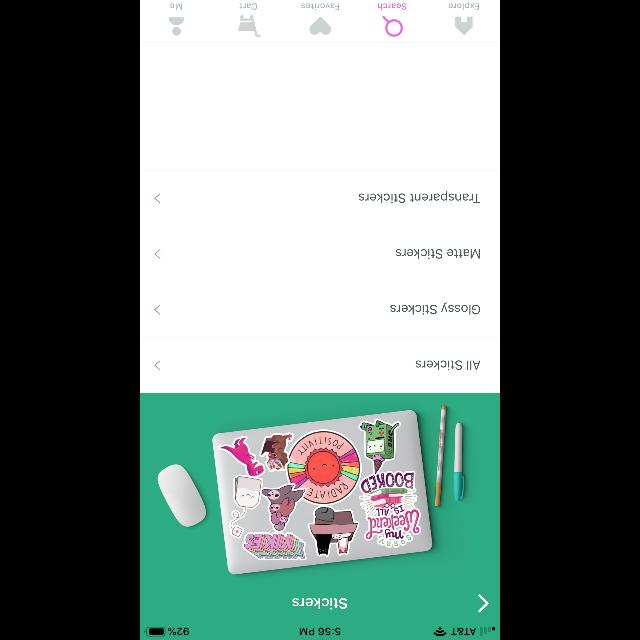icon: (239, 15, 261, 37), (383, 16, 403, 36), (309, 17, 331, 35), (456, 16, 472, 36), (170, 17, 184, 35), (478, 594, 488, 612), (155, 193, 161, 203), (155, 249, 161, 259), (155, 305, 161, 315), (154, 360, 160, 370)
image: (140, 393, 500, 639)
text: (358, 191, 479, 203), (390, 303, 480, 315), (396, 249, 480, 259), (292, 598, 348, 610), (416, 360, 480, 370), (448, 2, 479, 10), (302, 4, 338, 10), (378, 4, 406, 10), (240, 4, 256, 10), (170, 4, 182, 10)
uppertaskbar: (140, 626, 500, 640)
